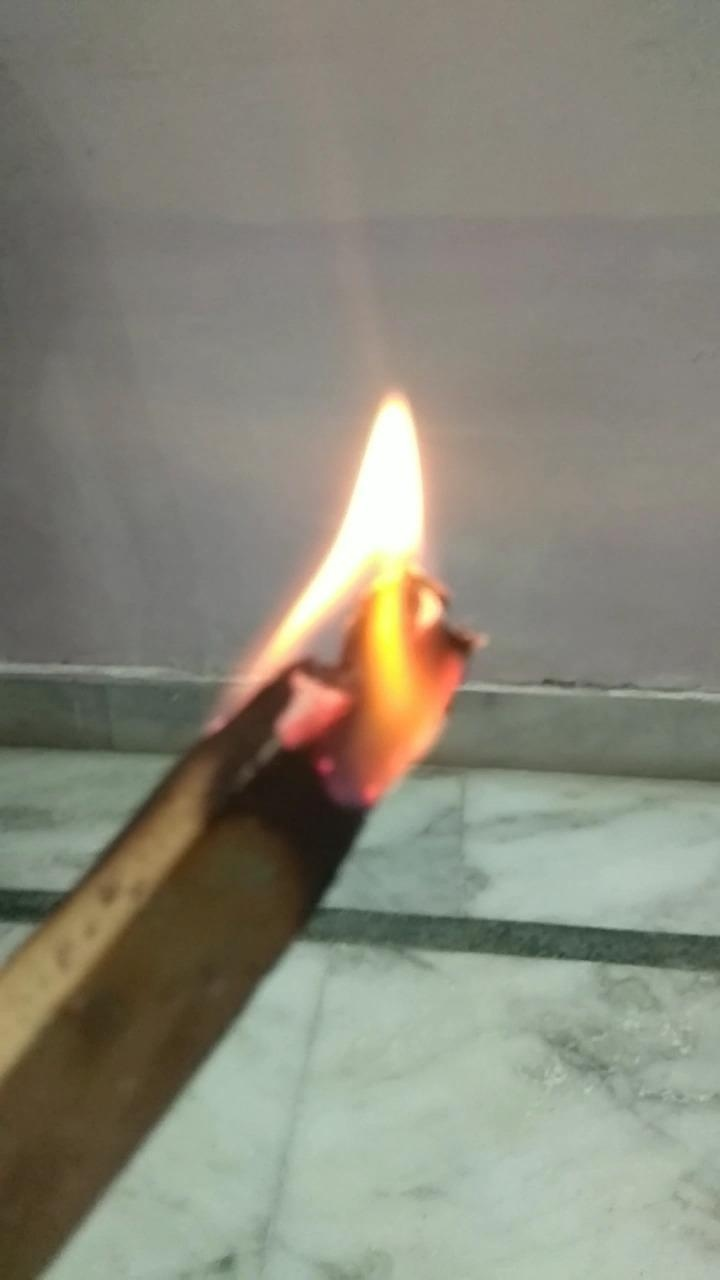fire: (287, 361, 478, 744)
